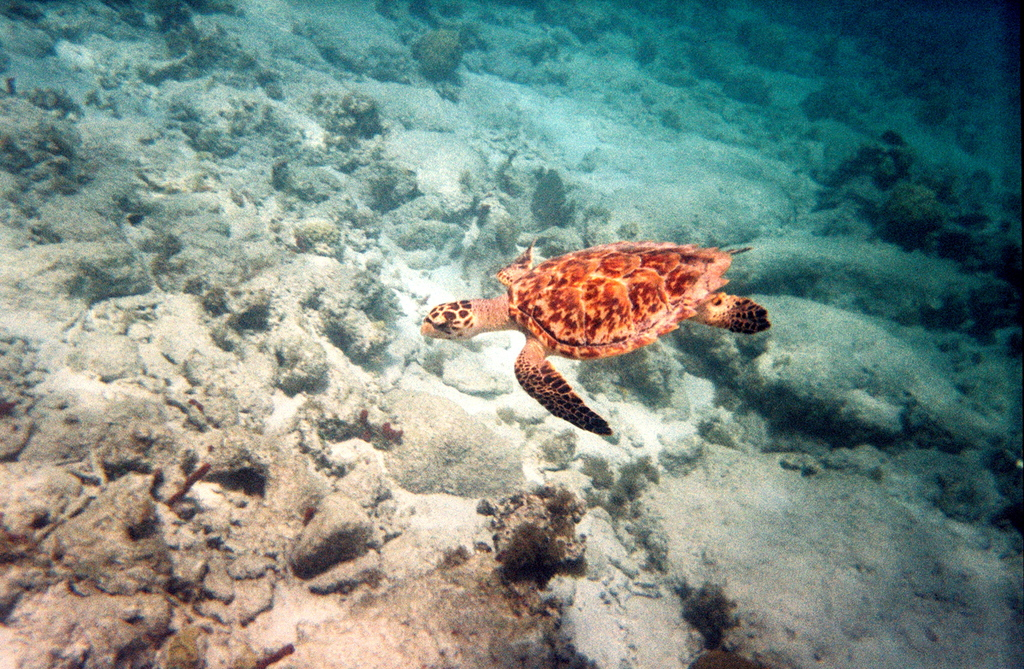Sea turtles: (423, 228, 784, 447)
